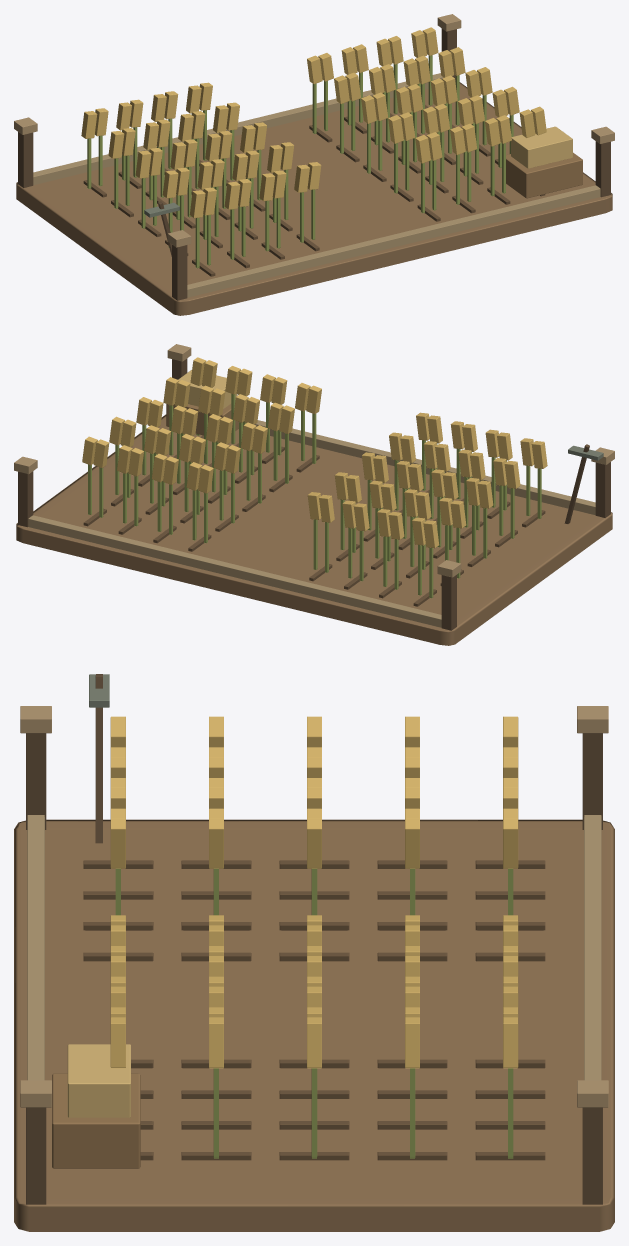
File: wheatfield-0.glb
3 views of the same model, one above another, from view 1: azimuth 30°, elevation 25°; view 2: azimuth 150°, elevation 25°; view 3: azimuth 270°, elevation 25° (orthographic). The views are drawn at different scales.
Visible parts, largest first — view 1: wheatfield-0-0, crop-patch; view 2: wheatfield-0-0, crop-patch; view 3: wheatfield-0-0, crop-patch.
Part boxes in pixels (x1,y1,x2,y2): wheatfield-0-0: (14,14,614,315); crop-patch: (81,27,546,268); wheatfield-0-0: (14,344,614,645); crop-patch: (82,357,547,598); wheatfield-0-0: (14,674,614,1231); crop-patch: (110,716,518,1158).
Bounding box in the file's own units: 2.95 × 0.6136 × 1.9.
